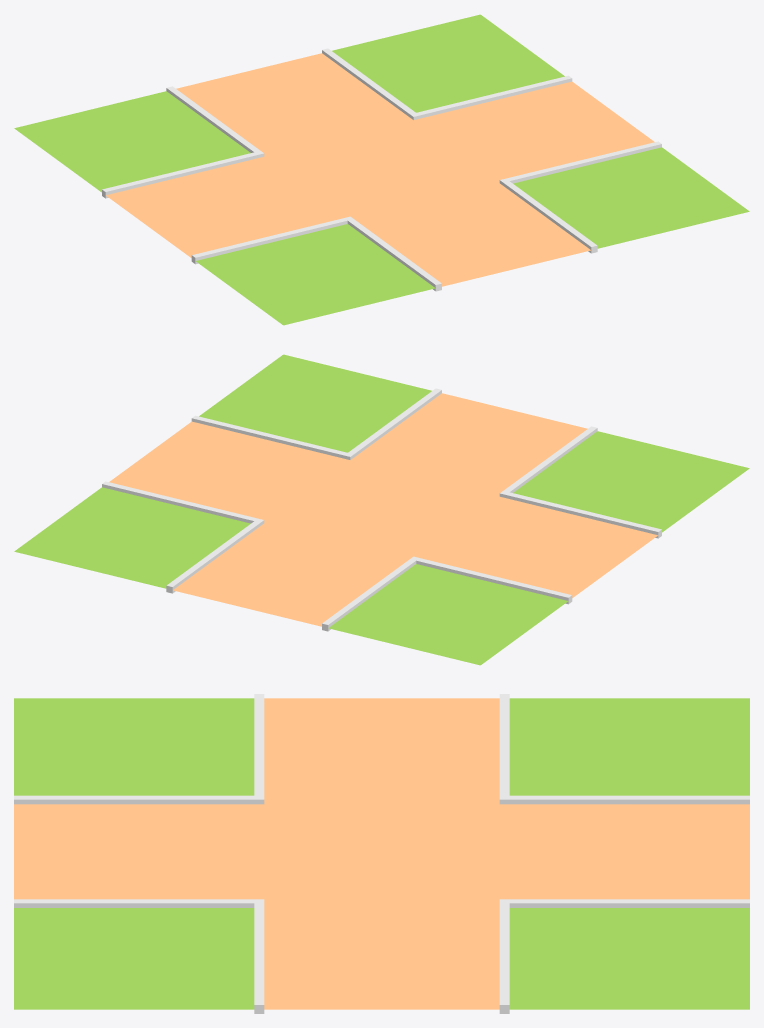
The model's file is park_road_004.glb.
3 views of the same model, one above another, from view 1: azimuth 30°, elevation 25°; view 2: azimuth 150°, elevation 25°; view 3: azimuth 270°, elevation 25° (orthographic). The views are drawn at different scales.
Visible parts, largest first — view 1: park_road_004; view 2: park_road_004; view 3: park_road_004.
Boxes of the visible parts, left/top/right/bottom form: park_road_004: left=14, top=14, right=749, bottom=325; park_road_004: left=14, top=354, right=749, bottom=665; park_road_004: left=14, top=694, right=749, bottom=1013.
Size of the model in its own units: 15 by 0.2 by 15.
Materials: 1 (1 with a texture image).
